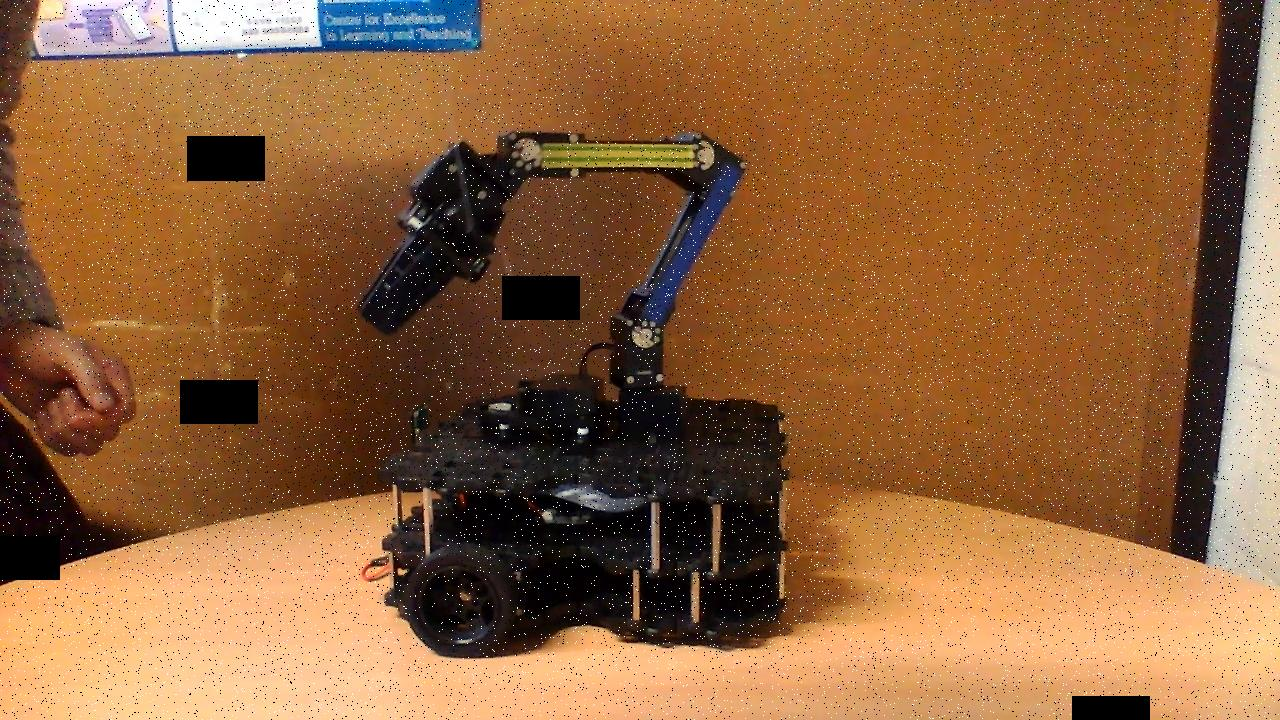Arm: (609, 159, 750, 354)
Hand: (357, 136, 524, 339)
Wrist: (504, 126, 714, 183)
base: (359, 371, 795, 662)
